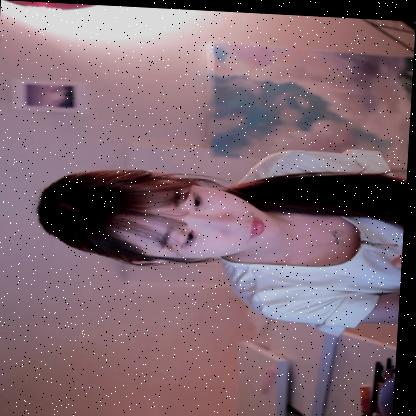streamer: (32, 132, 410, 337)
